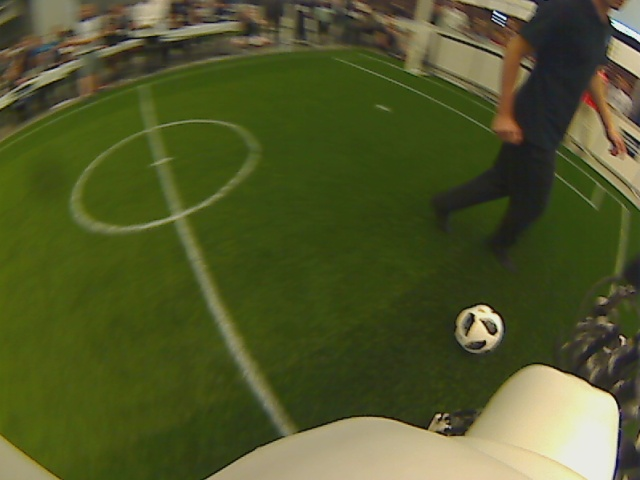ball: (453, 302, 505, 356)
